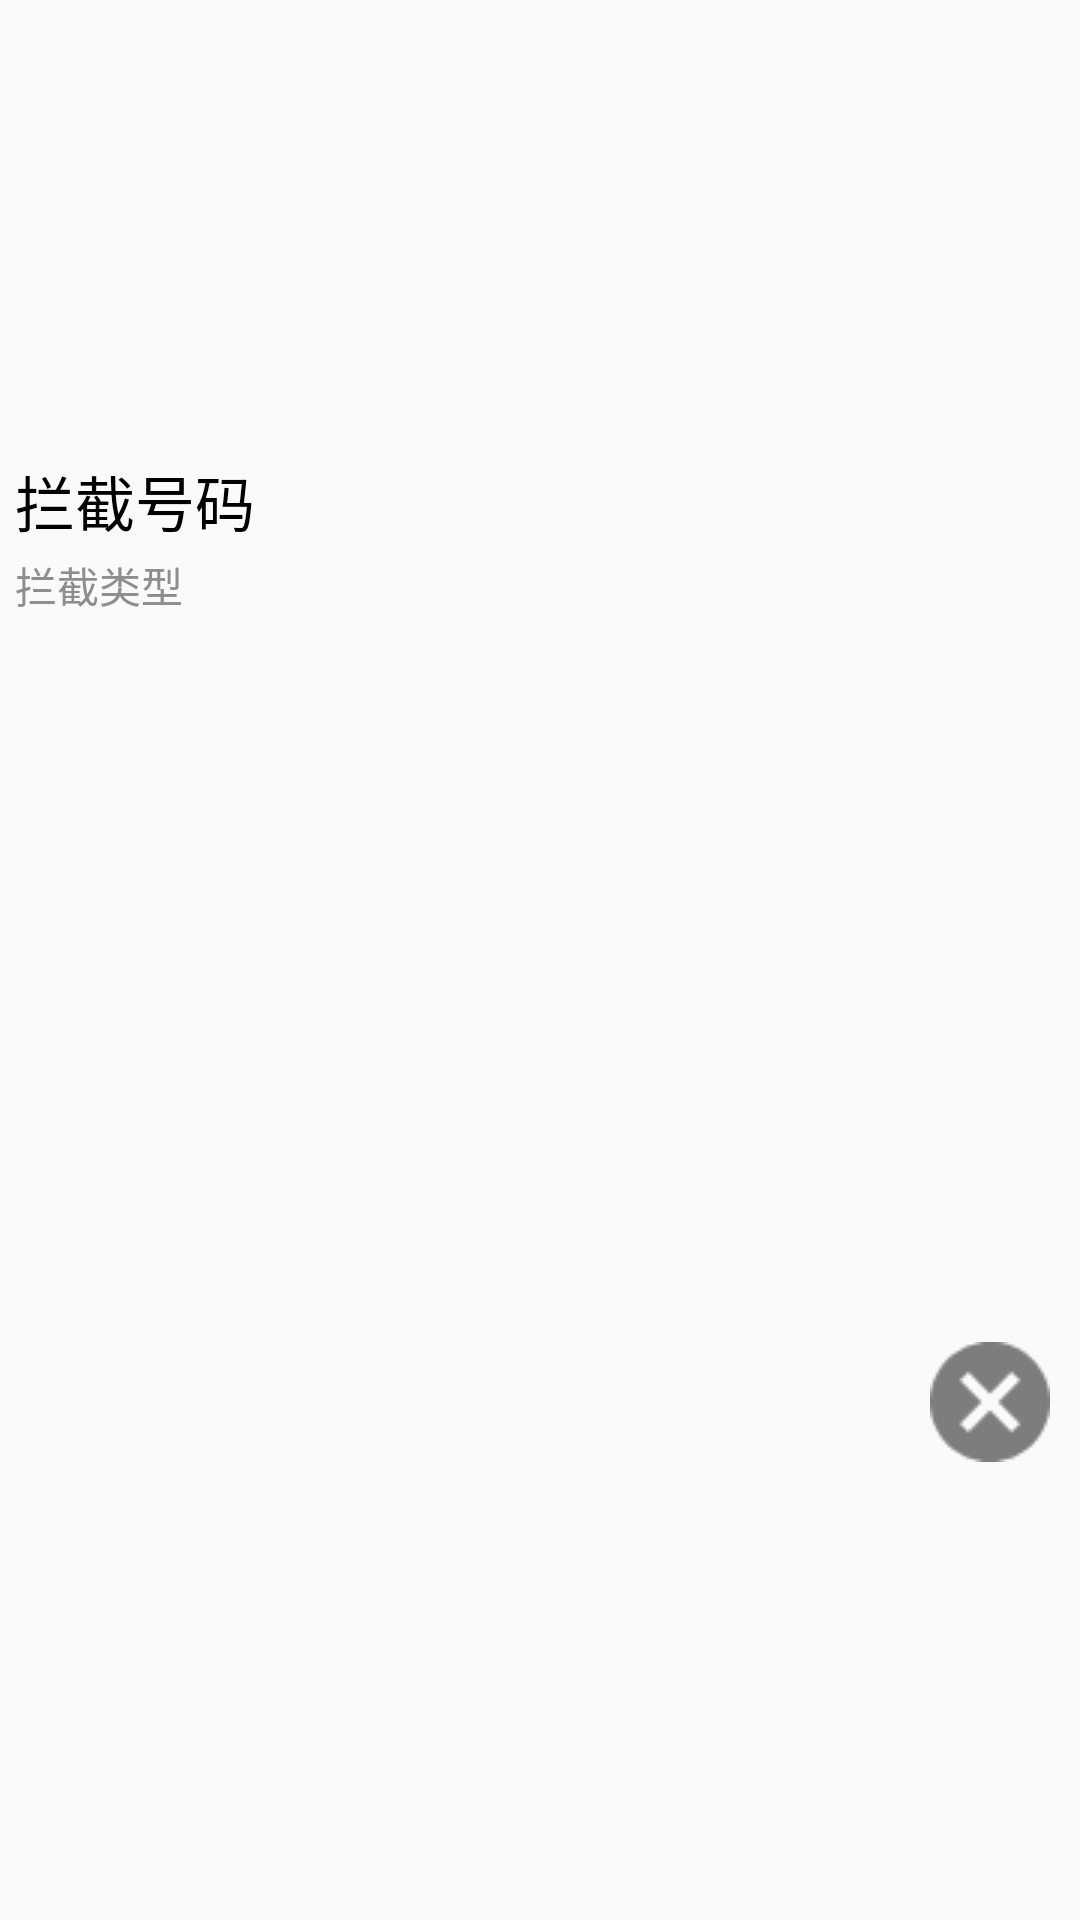

Named icons in this screenshot (1080*1920) and their centers, point (x, y):
delete: point (990, 1402)
